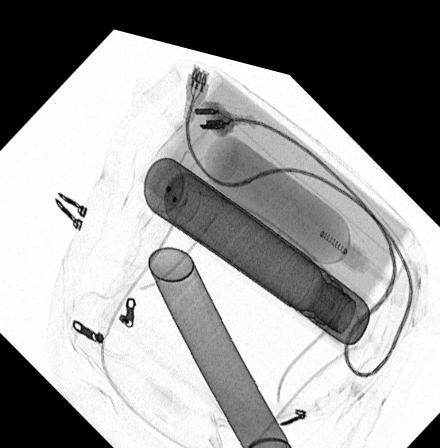Sprayer: (144, 237, 301, 448)
